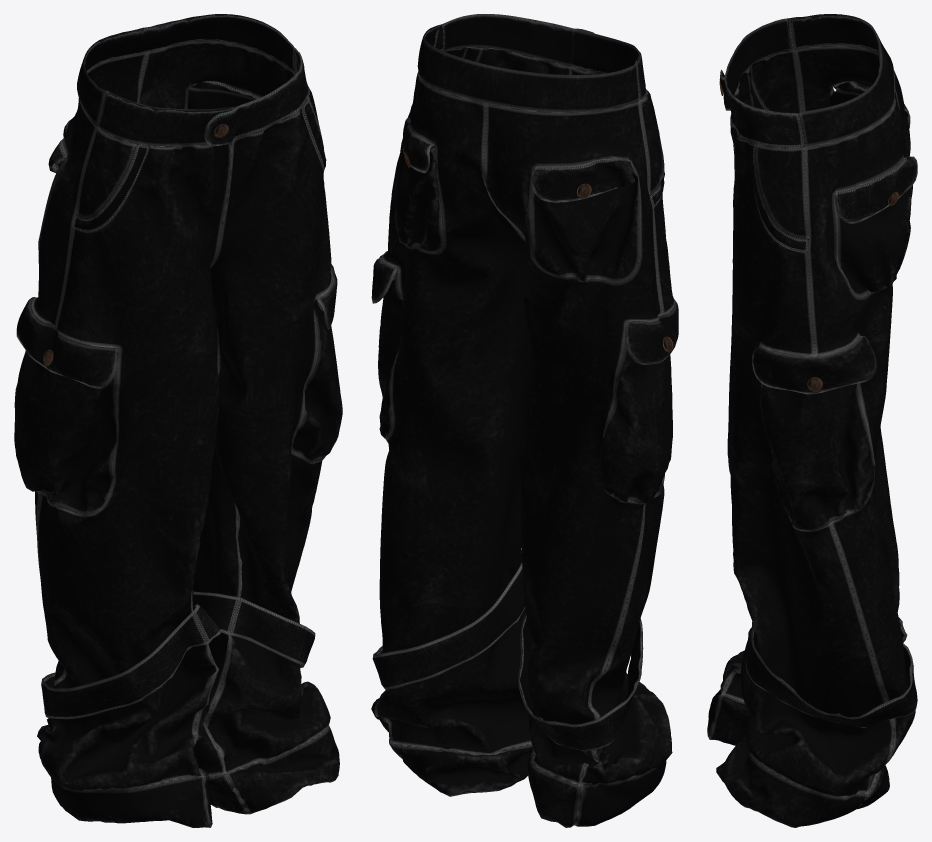
Rendered from pants.glb.
The picture shows the model from 3 angles, left to right: view 1: azimuth 30°, elevation 25°; view 2: azimuth 150°, elevation 25°; view 3: azimuth 270°, elevation 25°; orthographic projection. The views are drawn at different scales.
Visible parts, largest first — view 1: Object_2; view 2: Object_2; view 3: Object_2.
Boxes of the visible parts, <box> form: Object_2: <box>14,14,342,827</box>; Object_2: <box>371,14,678,827</box>; Object_2: <box>707,14,917,827</box>.
Bounding box in the file's own units: 0.4148 × 1 × 0.2667.
Materials: 1 (1 with a texture image).
